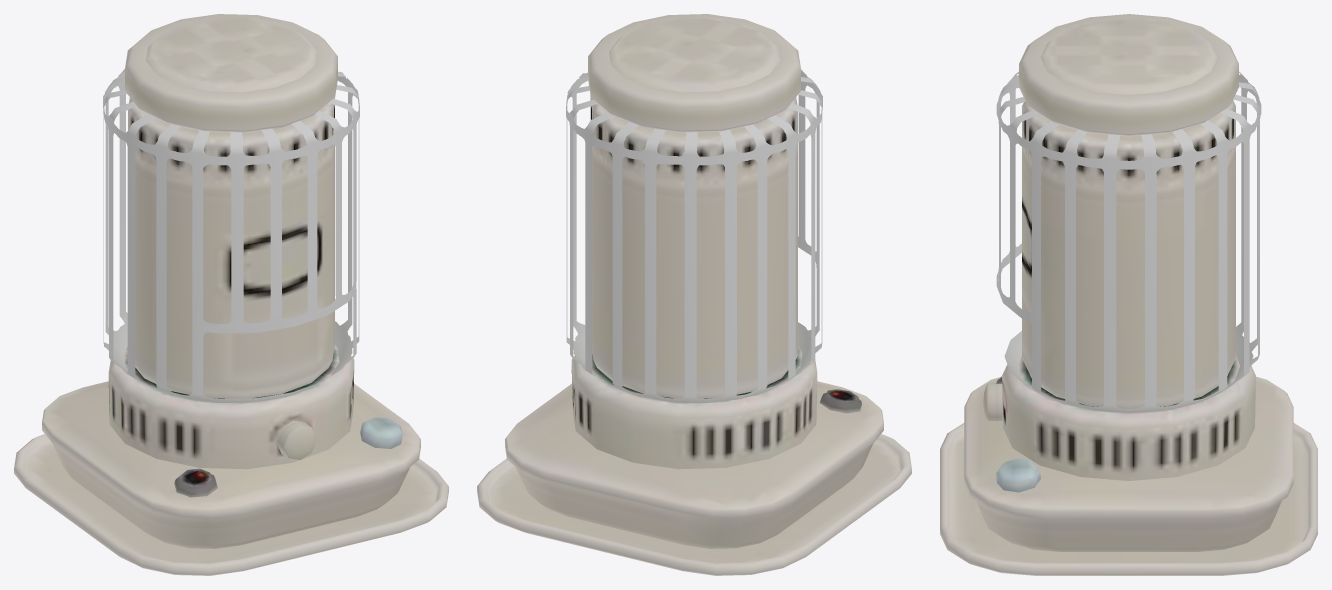
The picture shows the model from 3 angles, left to right: view 1: azimuth 30°, elevation 25°; view 2: azimuth 150°, elevation 25°; view 3: azimuth 270°, elevation 25°; orthographic projection. The views are drawn at different scales.
Bounding box in the file's own units: 6.92 × 9.03 × 6.92.
Materials: 1 (1 with a texture image).
